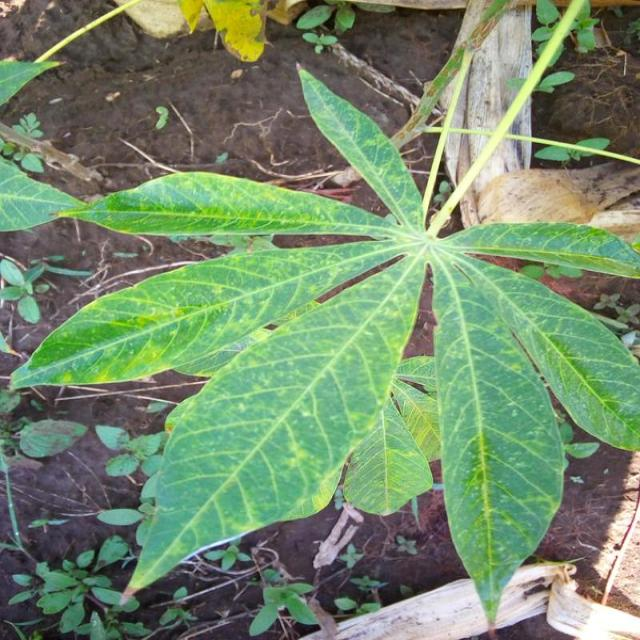cassava leaf: (6, 58, 638, 632), (118, 246, 426, 608), (430, 246, 567, 632)
